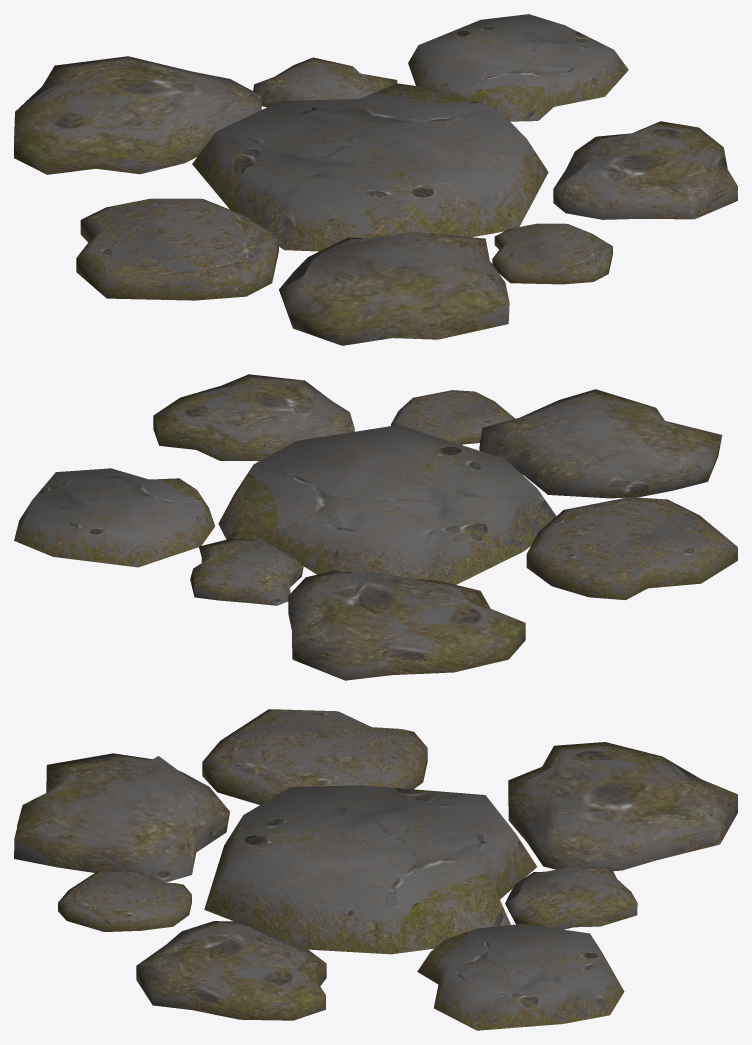
Rendered from ROK0210002.fbx.
3 renders of one model, top to bottom at view 1: azimuth 30°, elevation 25°; view 2: azimuth 150°, elevation 25°; view 3: azimuth 270°, elevation 25°, orthographic. The views are drawn at different scales.
Visible parts, largest first — view 1: smROK0210002; view 2: smROK0210002; view 3: smROK0210002.
Boxes of the visible parts, box(x1,y1,x2,y2) form: smROK0210002: box(14, 14, 737, 345); smROK0210002: box(14, 374, 737, 680); smROK0210002: box(14, 709, 737, 1030).
Bounding box in the file's own units: 54.1 × 3.41 × 53.88.
Materials: 1 (1 with a texture image).
